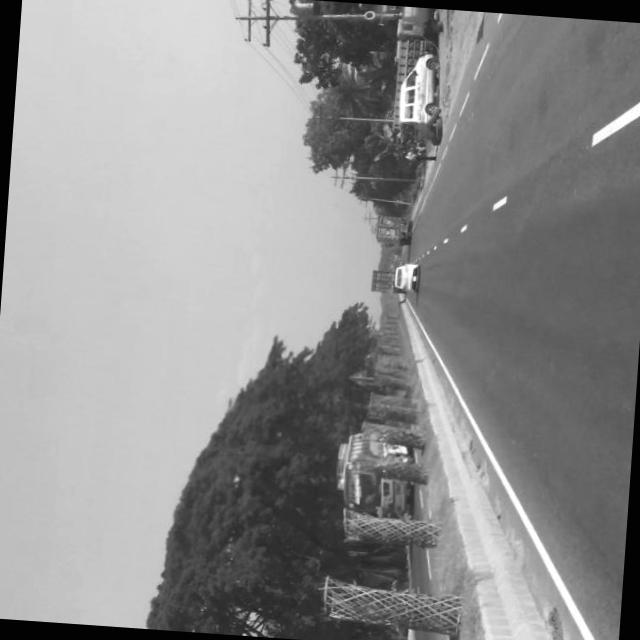bus: (330, 425, 420, 515)
car: (392, 259, 419, 293)
truck: (391, 46, 439, 140), (372, 208, 413, 246), (368, 264, 390, 290)
